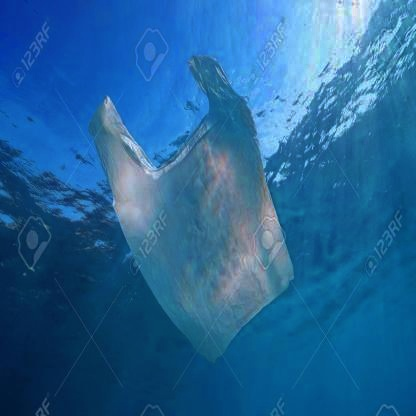pbag: (88, 55, 295, 364)
